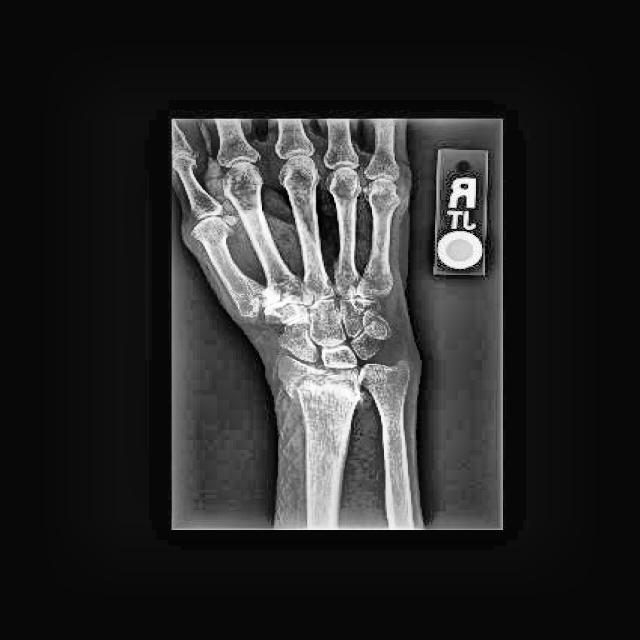wrist positive: (264, 354, 413, 424)
